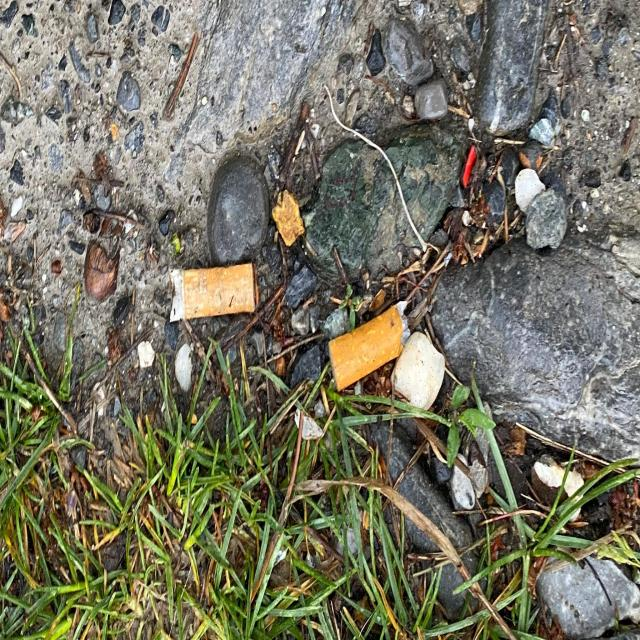other waste: (327, 298, 411, 394), (169, 260, 259, 324)
